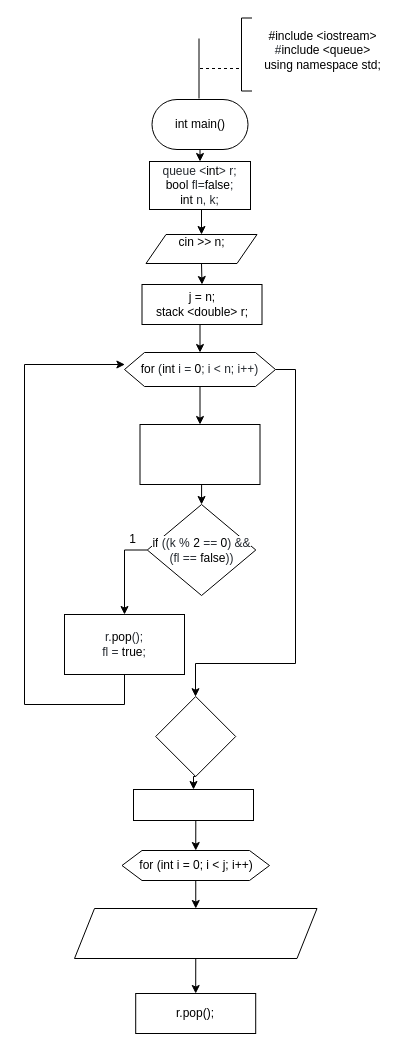
The diagram is 404 pixels wide and 1051 high, and some of its shapes have lost their labels. Here are the shapes that lost their labels. From the top down, the centre of each, then its label:
the point at 199,454: k = rand() % 200 - 100; r. push (k);
the point at 195,736: if (fl == true )
the point at 193,804: n--;
the point at 195,933: cout << r. back ()<< " " ; r. pop ();
